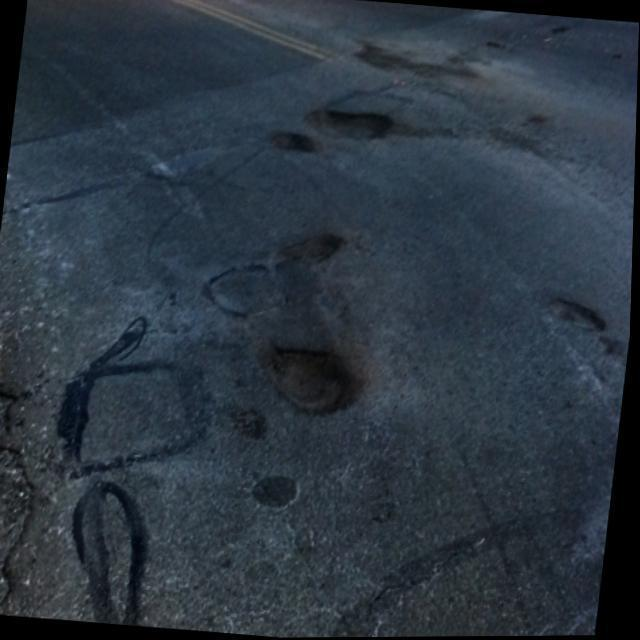Pothole: (266, 346, 362, 414), (305, 108, 411, 139), (278, 232, 345, 262), (549, 298, 606, 331), (270, 130, 321, 152)
